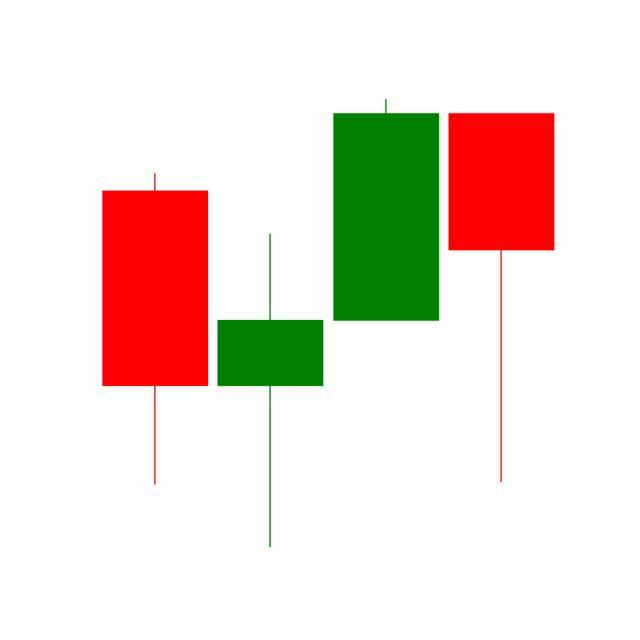Marubozu: (329, 98, 445, 324)
